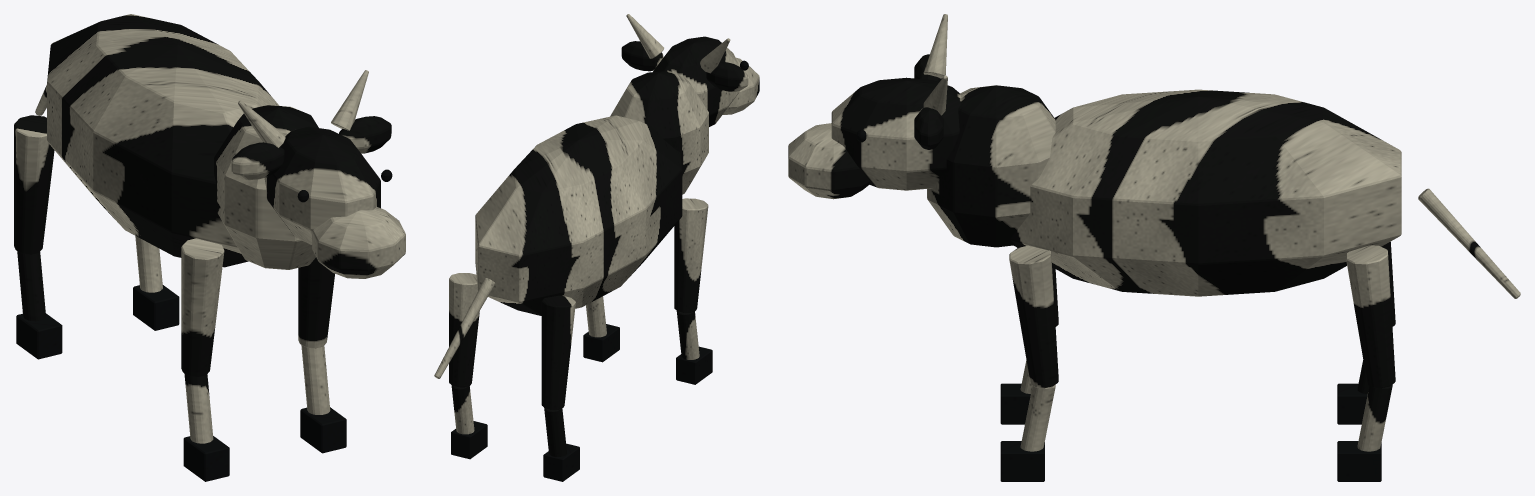
File: PROP-39DEE01F00B0_lod1.glb
The picture shows the model from 3 angles, left to right: view 1: azimuth 30°, elevation 25°; view 2: azimuth 150°, elevation 25°; view 3: azimuth 270°, elevation 25°; orthographic projection. The views are drawn at different scales.
Parts seen in each view (by area): view 1: animal_torso.001, upper_leg.001, animal_head.001, animal_neck.001, hoof.001, lower_leg.001, muzzle.001, animal_ears.001, horn.001; view 2: animal_torso.001, upper_leg.001, animal_neck.001, hoof.001, lower_leg.001, animal_head.001, animal_ears.001, tail.001, horn.001, muzzle.001; view 3: animal_torso.001, animal_neck.001, upper_leg.001, animal_head.001, hoof.001, muzzle.001, lower_leg.001, tail.001, horn.001, animal_ears.001.
Part boxes in pixels (x1,y1,x2,y2): animal_torso.001: [47, 14, 279, 267]; upper_leg.001: [14, 115, 334, 376]; animal_head.001: [264, 126, 380, 244]; animal_neck.001: [214, 105, 318, 269]; hoof.001: [16, 285, 346, 481]; lower_leg.001: [17, 236, 330, 443]; muzzle.001: [312, 206, 405, 278]; animal_ears.001: [231, 116, 391, 180]; horn.001: [238, 70, 368, 147]; animal_torso.001: [475, 115, 682, 315]; upper_leg.001: [449, 198, 708, 409]; animal_neck.001: [610, 71, 708, 194]; hoof.001: [451, 324, 712, 481]; lower_leg.001: [451, 296, 699, 456]; animal_head.001: [653, 36, 739, 126]; animal_ears.001: [621, 41, 748, 91]; tail.001: [434, 278, 495, 378]; horn.001: [626, 14, 730, 73]; muzzle.001: [723, 57, 759, 114]; animal_torso.001: [1010, 89, 1401, 296]; animal_neck.001: [927, 85, 1055, 247]; upper_leg.001: [1009, 241, 1395, 388]; animal_head.001: [831, 77, 960, 190]; hoof.001: [1000, 383, 1381, 481]; muzzle.001: [788, 123, 870, 199]; lower_leg.001: [1020, 360, 1392, 451]; tail.001: [1418, 188, 1520, 298]; horn.001: [923, 14, 947, 115]; animal_ears.001: [914, 54, 943, 149].
Bounding box in the file's own units: 0.6657 × 1.5 × 2.48.
Materials: 3 (3 with a texture image).
